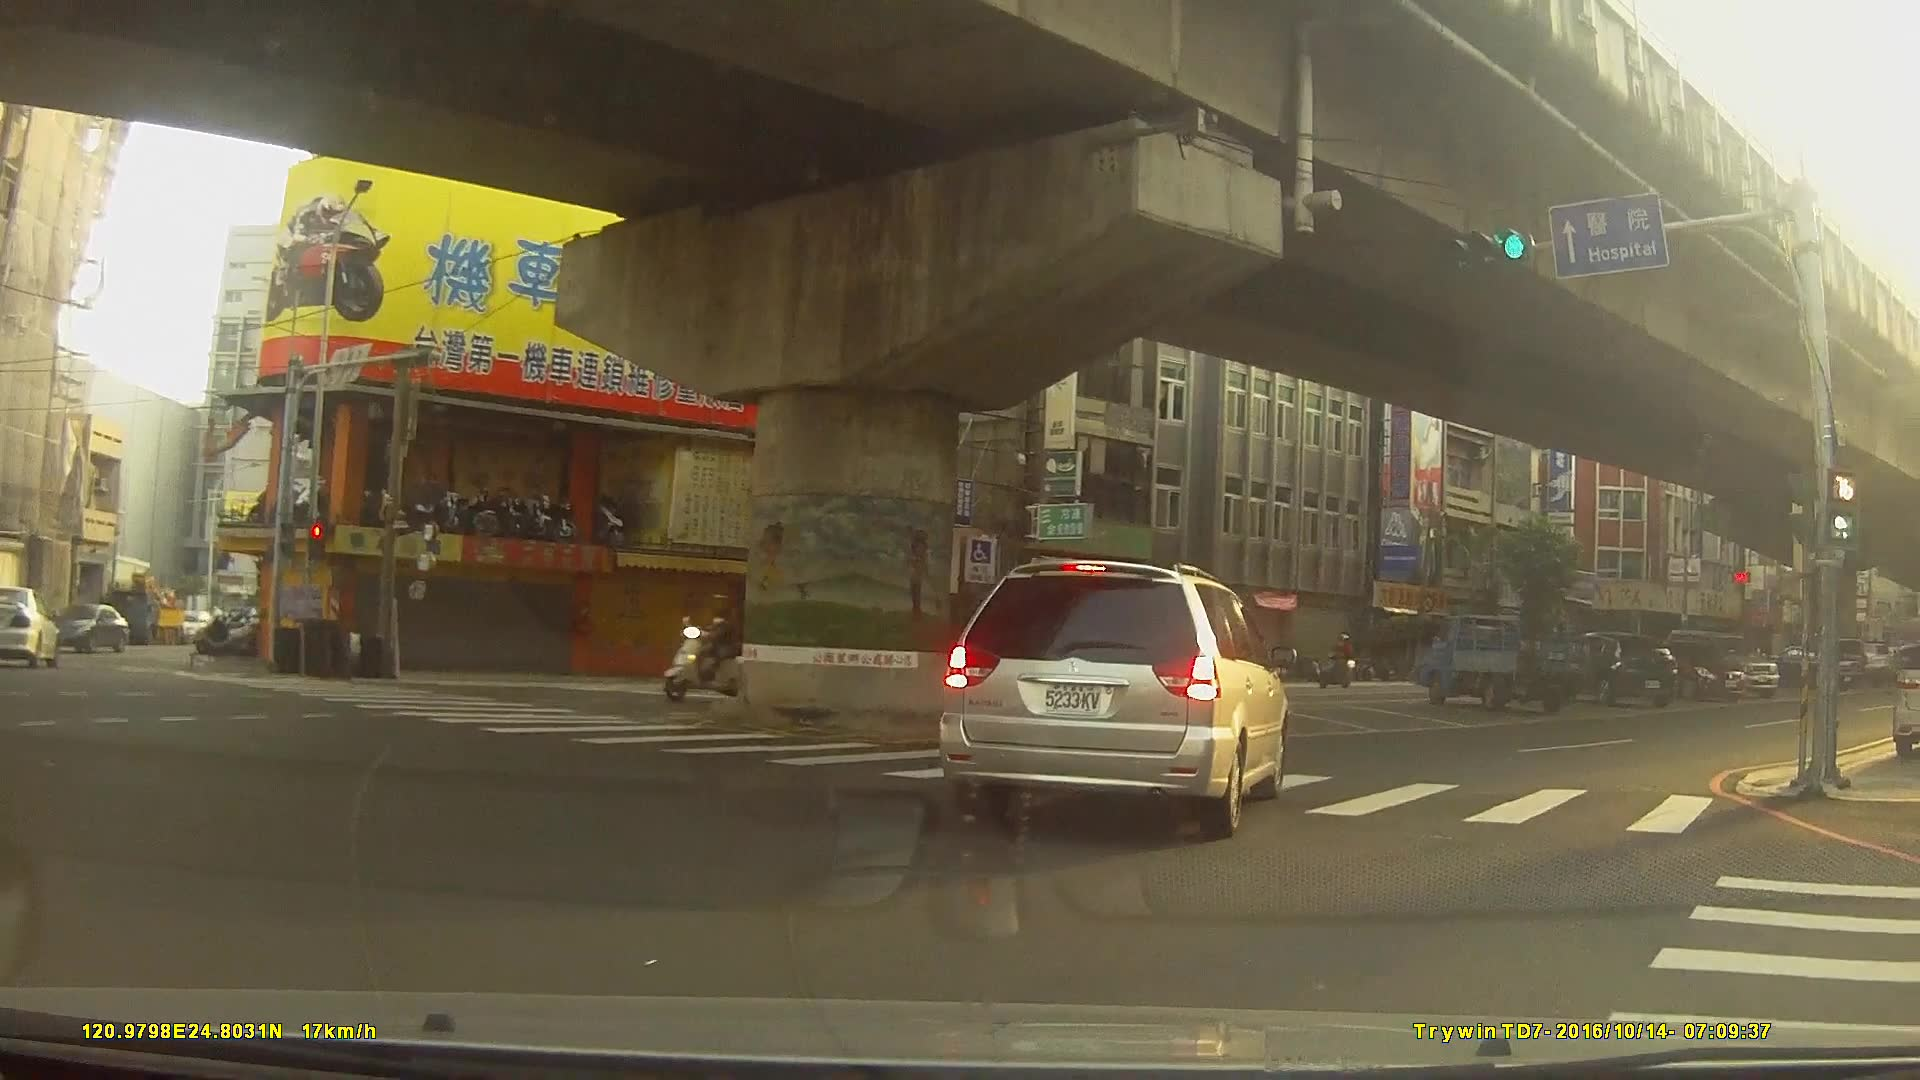rider: (664, 595, 755, 704), (1320, 635, 1357, 689)
vehicle: (934, 559, 1288, 840), (1411, 612, 1586, 713), (1545, 628, 1676, 706), (1640, 638, 1750, 702), (0, 583, 60, 667), (51, 601, 127, 653), (177, 607, 217, 638)
